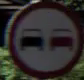No overtake: (4, 10, 77, 65)
